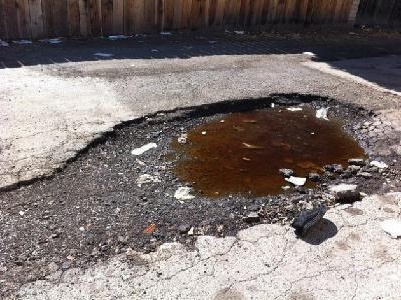pothole: (47, 88, 386, 281)
